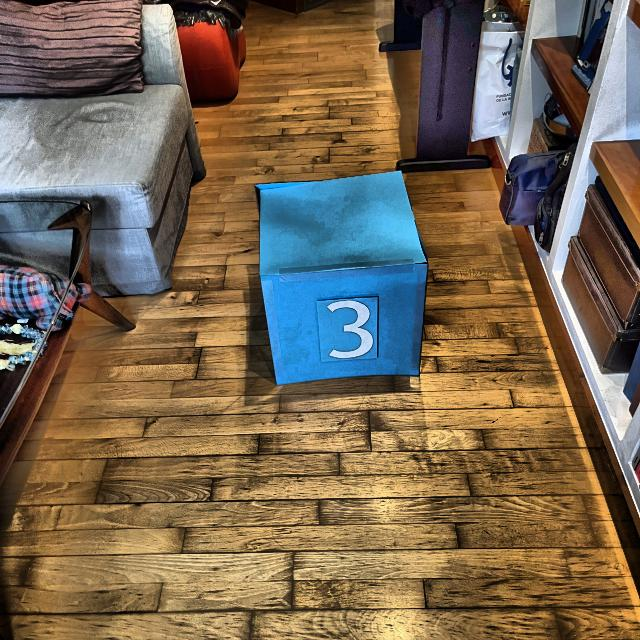blue box: (252, 166, 430, 389)
three: (320, 294, 376, 362)
